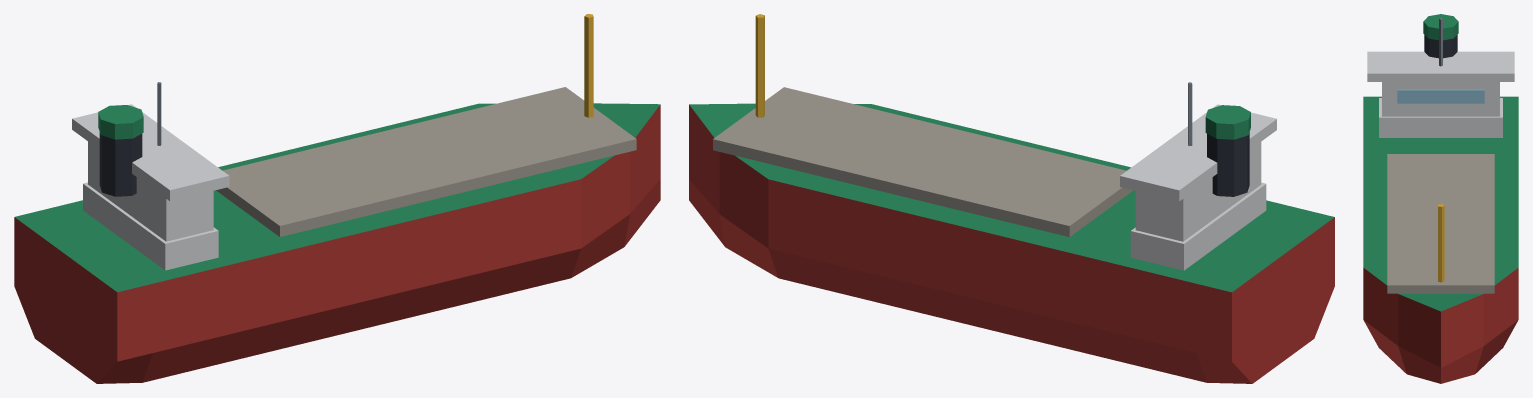
File: ship_mini.glb
3 views of the same model, side by side, from view 1: azimuth 30°, elevation 25°; view 2: azimuth 150°, elevation 25°; view 3: azimuth 270°, elevation 25° (orthographic). The views are drawn at different scales.
Parts seen in each view (by area): view 1: ship_mini; view 2: ship_mini; view 3: ship_mini.
Part boxes in pixels (<box>): ship_mini: <box>14,14,660,383</box>; ship_mini: <box>689,14,1334,383</box>; ship_mini: <box>1363,14,1518,383</box>.
Bounding box in the file's own units: 14 × 5.75 × 4.2.
